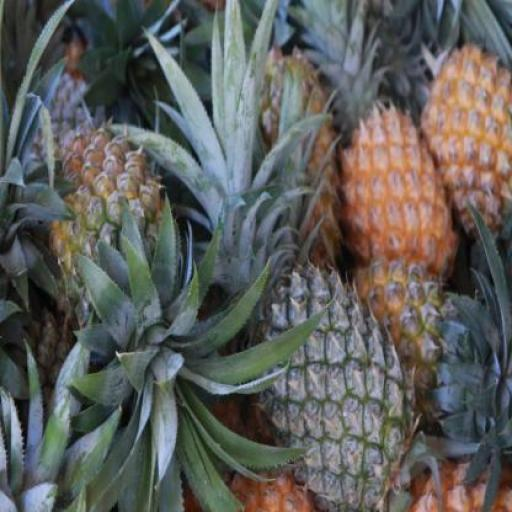------------------------------: (44, 125, 184, 335)
Pineapple - v8 v1: (338, 106, 452, 288), (421, 42, 511, 260)
